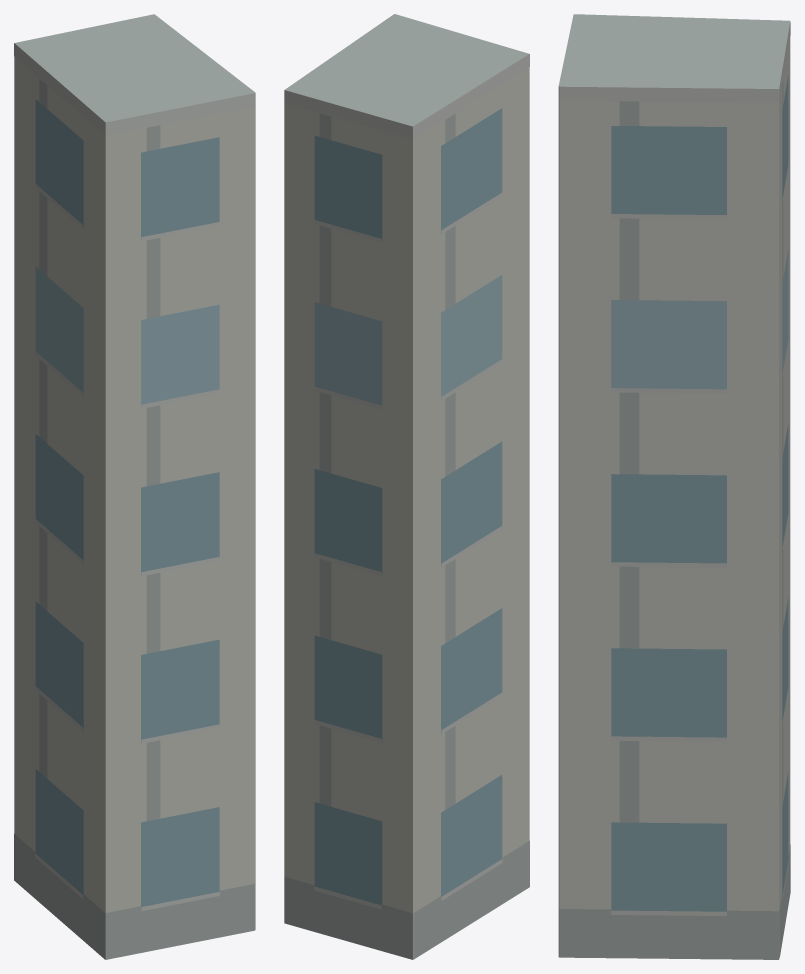
The model's file is survey-upis-32819697.glb.
3 views of the same model, side by side, from view 1: azimuth 30°, elevation 25°; view 2: azimuth 150°, elevation 25°; view 3: azimuth 270°, elevation 25° (orthographic). The views are drawn at different scales.
Parts seen in each view (by area): view 1: survey-upis-32819697.tmp; view 2: survey-upis-32819697.tmp; view 3: survey-upis-32819697.tmp.
Boxes of the visible parts, x1,y1,x2,y2 form: survey-upis-32819697.tmp: (14,14,255,959); survey-upis-32819697.tmp: (284,14,529,959); survey-upis-32819697.tmp: (558,14,790,959).
Size of the model in its own units: 2.83 by 15.25 by 3.69.
